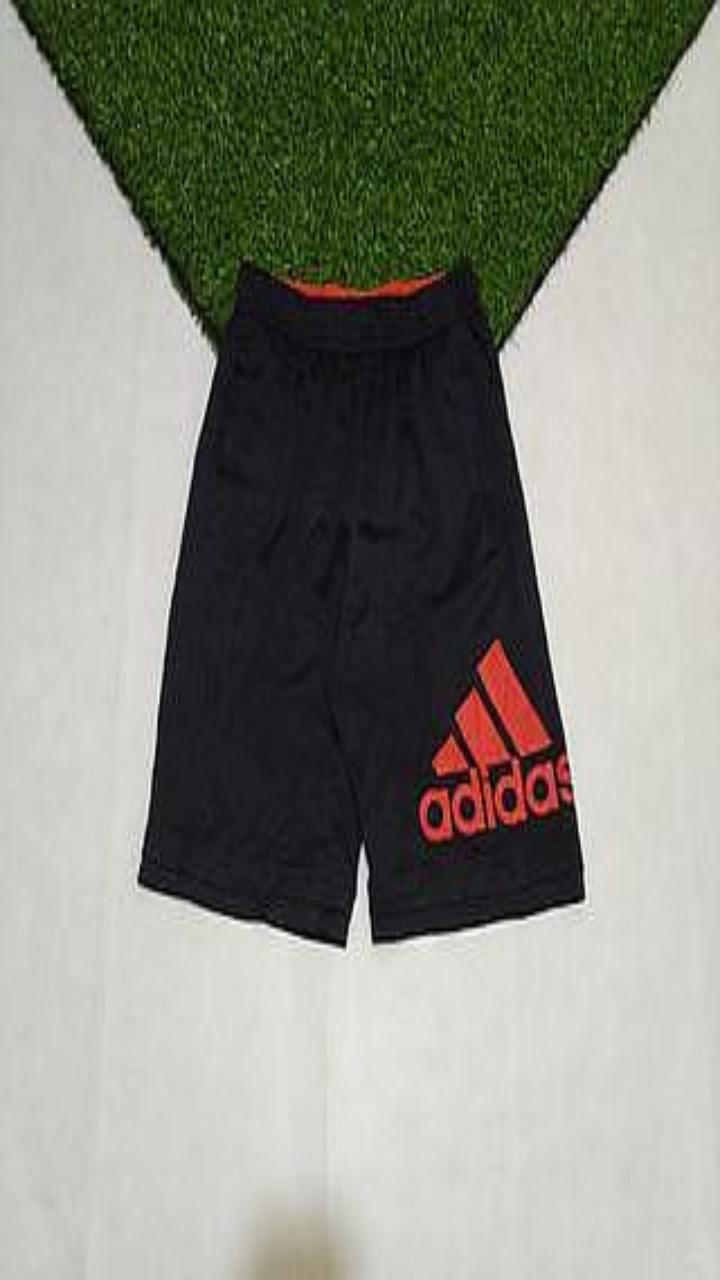Shorts: (138, 260, 583, 945)
